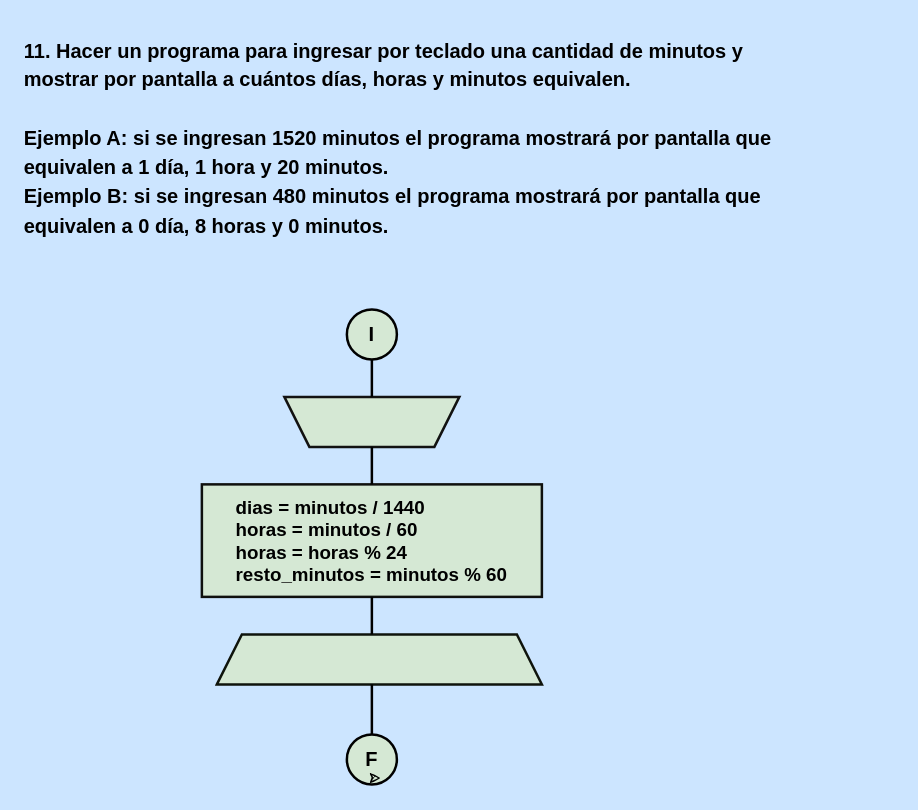
Some shapes in this 918 by 810 pixel diagram are drawn without their labels. The shapes that lost their labels are listed below. From the top down, each one's box as (x1, y1, x2, y2) in pixels, then its label:
(282, 395, 460, 448): minutos
(215, 632, 542, 685): dias, horas, resto_minutos
